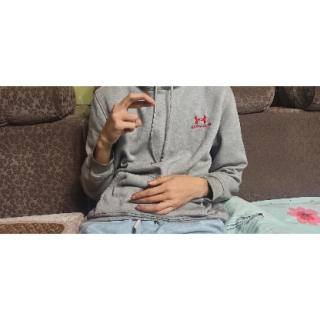ZAY: (100, 91, 160, 150)
